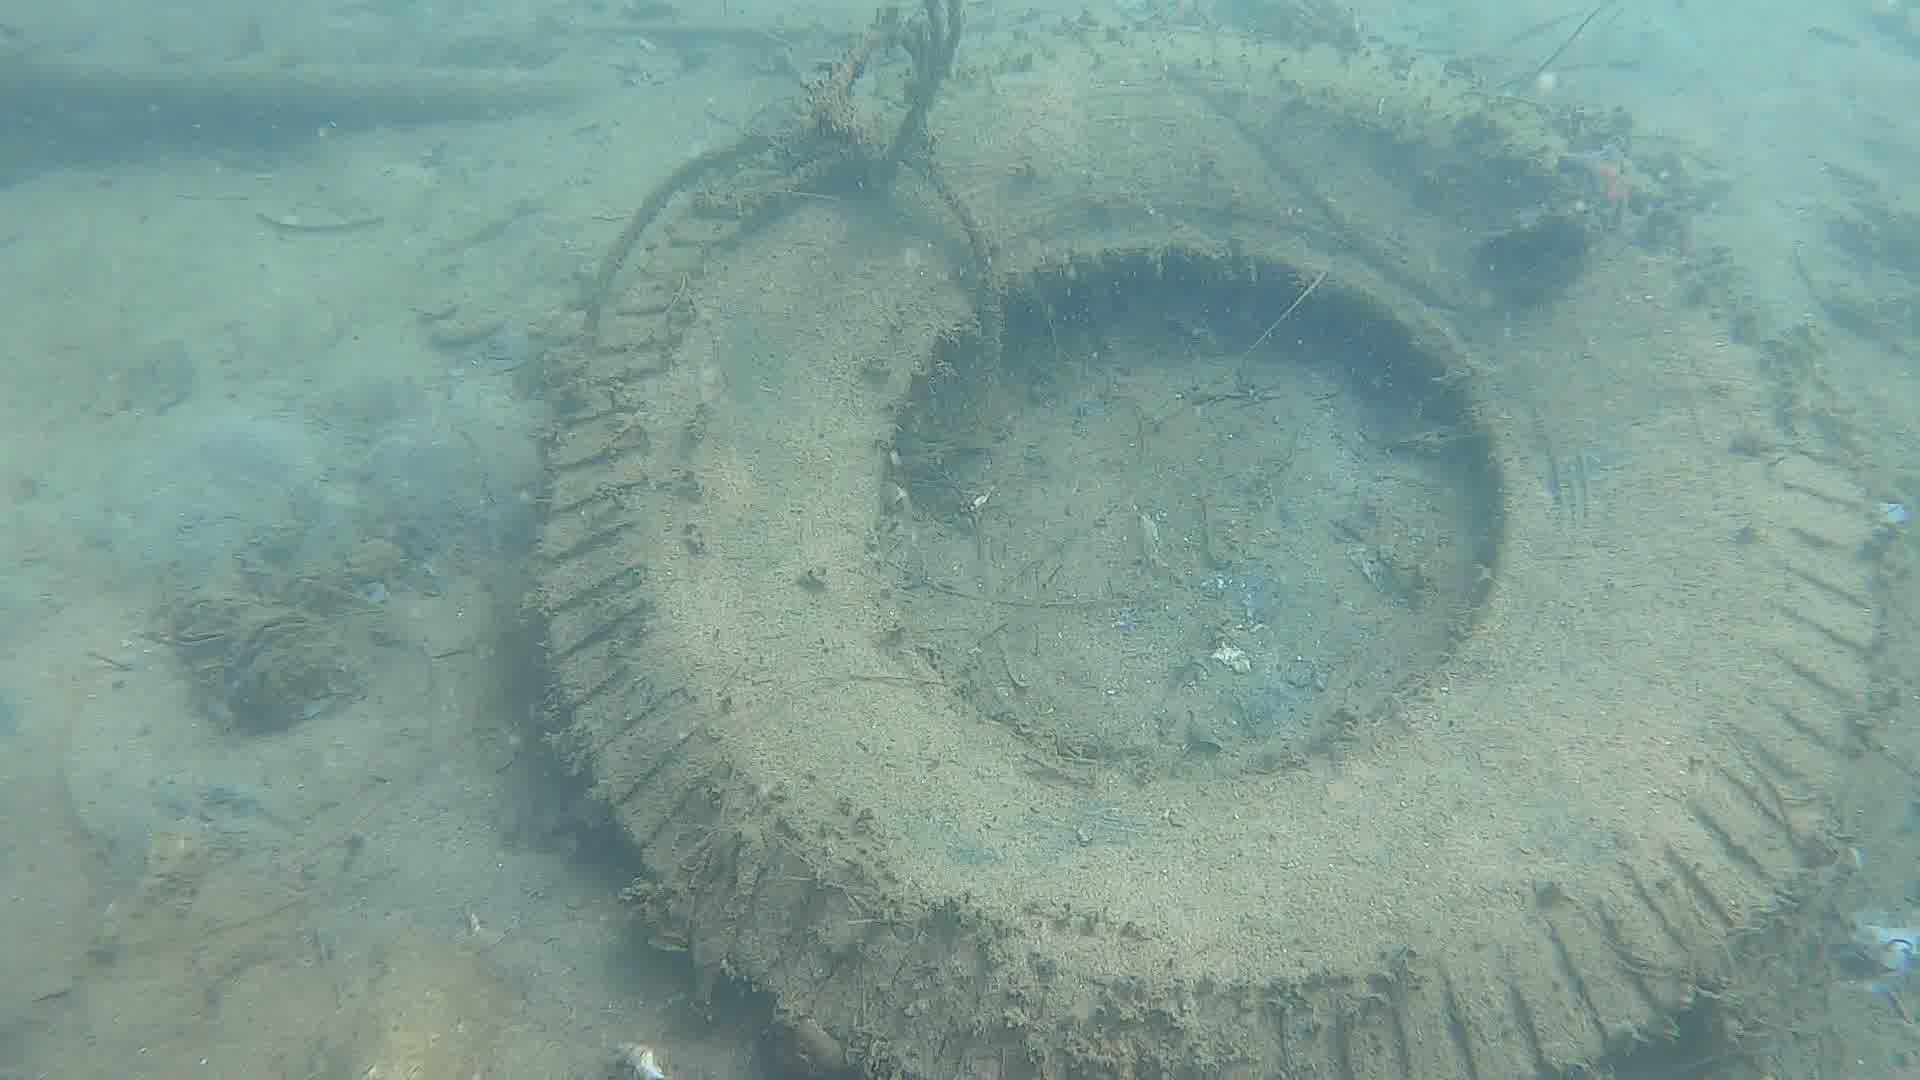bundle of ropes: (574, 86, 1015, 438)
tire: (529, 33, 1894, 1080)
